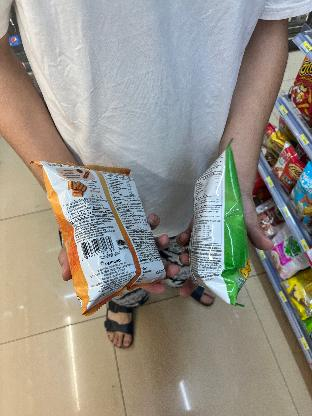Plastic Packaging: (26, 148, 176, 318), (176, 134, 260, 312)
